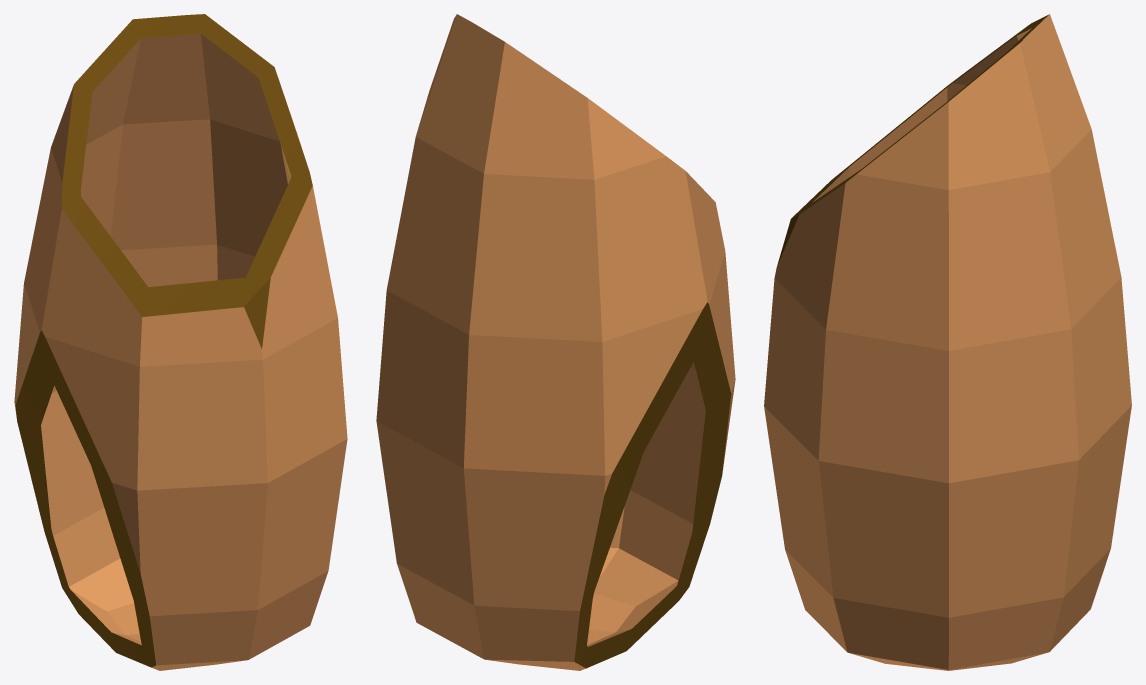
3 renders of one model, left to right at view 1: azimuth 30°, elevation 25°; view 2: azimuth 150°, elevation 25°; view 3: azimuth 270°, elevation 25°, orthographic. The views are drawn at different scales.
Visible parts, largest first — view 1: v_08; view 2: v_08; view 3: v_08.
Boxes of the visible parts, <box> form: v_08: <box>14,14,347,670</box>; v_08: <box>376,14,735,670</box>; v_08: <box>764,14,1131,670</box>.
Size of the model in its own units: 0.4978 by 0.979 by 0.514.
1 material, 1 textured.
